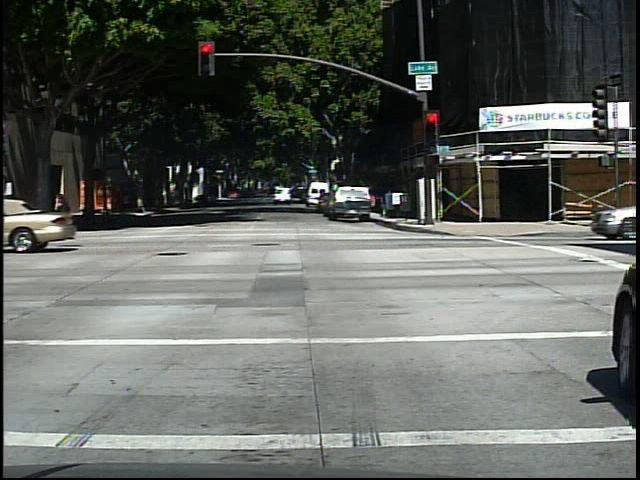person: (47, 187, 77, 239)
